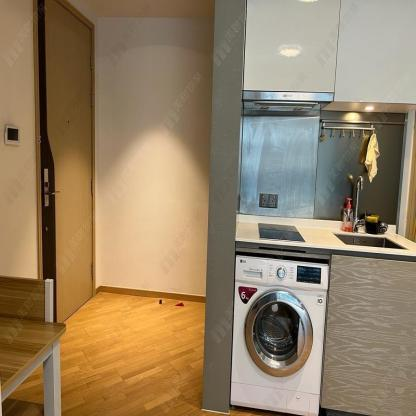Cupboard: (241, 0, 416, 96)
Exhaust Hood: (241, 89, 334, 112)
Faucet: (352, 172, 367, 232)
Sink: (326, 230, 414, 252)
Stove: (256, 222, 311, 245)
Washing Machine: (230, 255, 330, 415)
